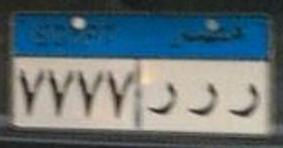7: (76, 67, 103, 118), (18, 66, 44, 118), (48, 67, 74, 117), (107, 68, 132, 119)
raa: (145, 78, 181, 124), (185, 77, 220, 121), (228, 79, 260, 124)
